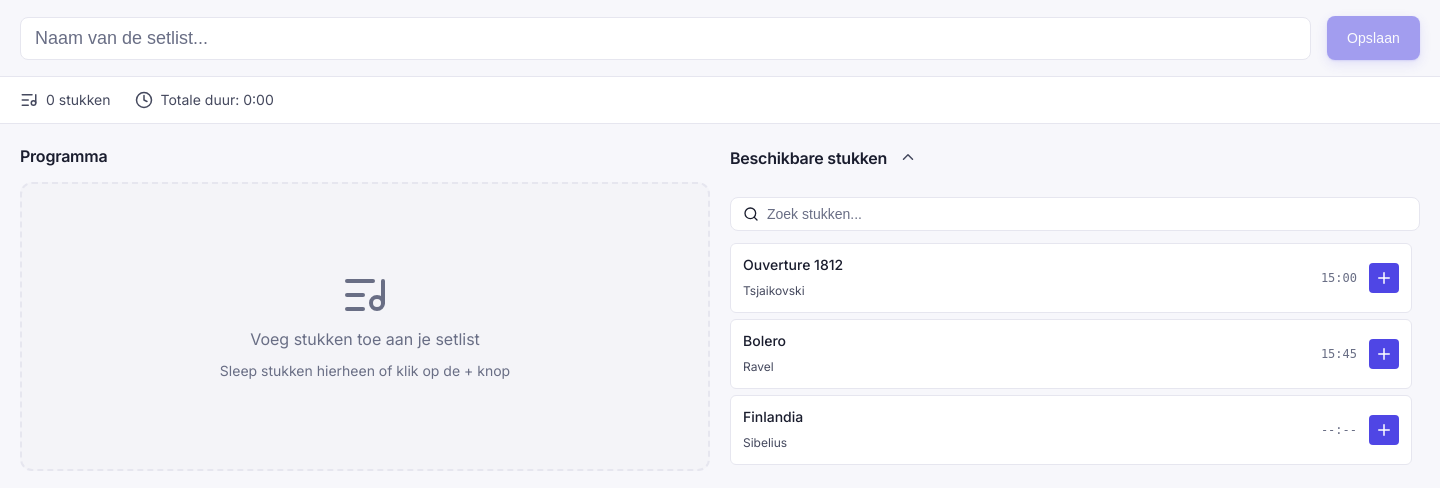
SetlistBuilder: stukken kiezen › haalt een stuk weer uit het programma en biedt het opnieuw aan
Click the button titled "Toevoegen aan setlist" next to "15:45": (1384,354) x1=1369 y1=339 x2=1399 y2=369
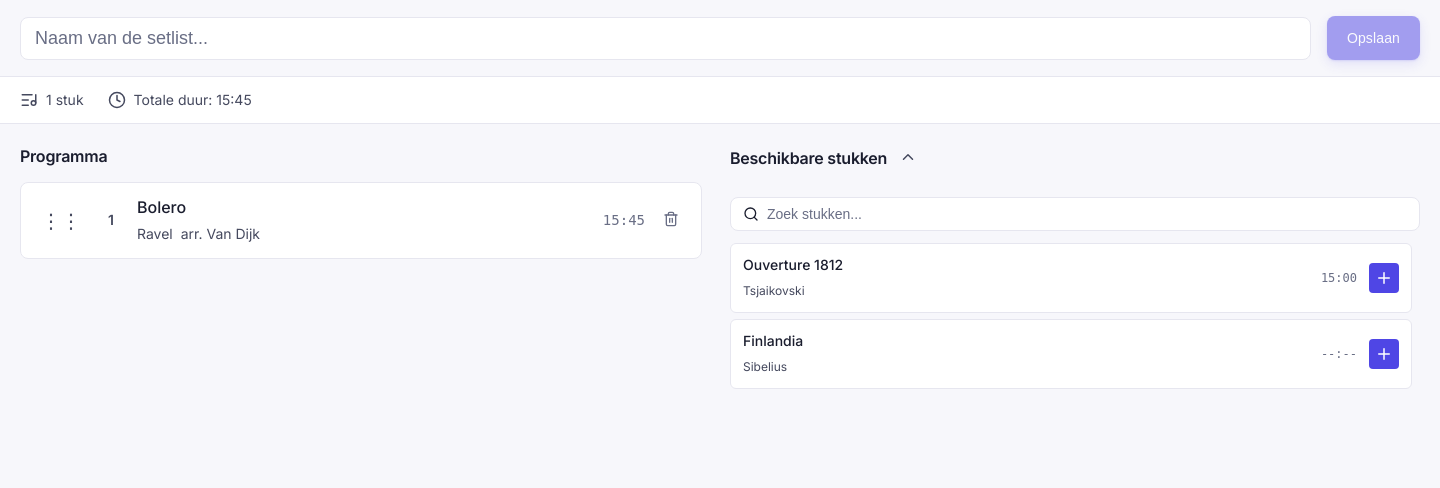
Click the button titled "Verwijderen uit setlist": (671,221) x1=657 y1=205 x2=685 y2=236
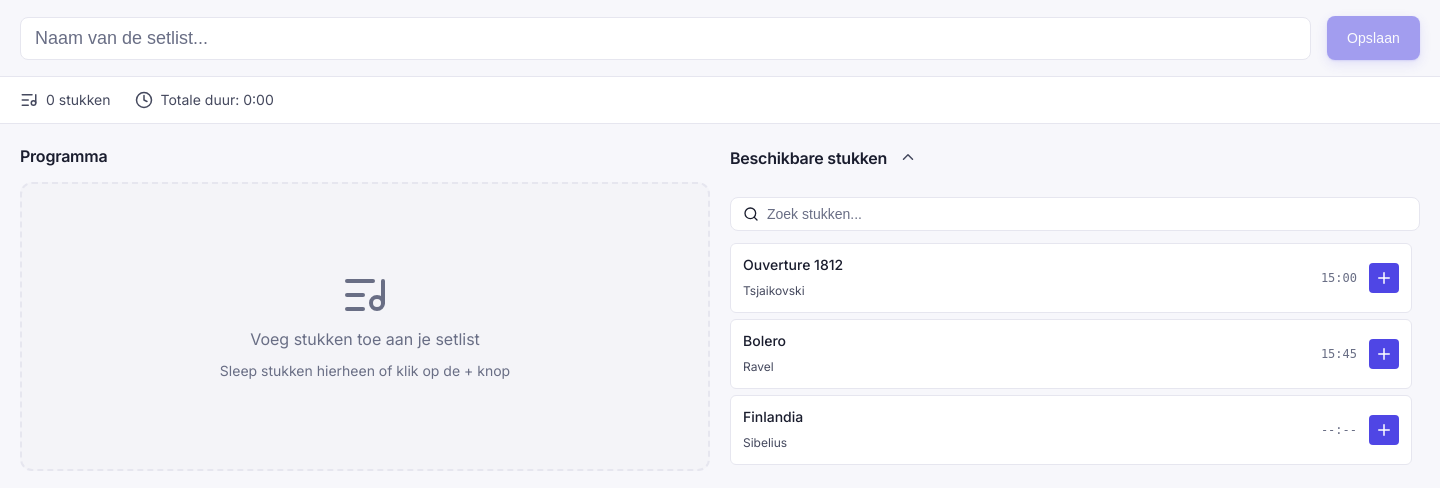
expect the text "Voeg stukken toe aan je setlist" is shown: met, box x1=250 y1=327 x2=480 y2=352
expect the text "0 stukken" is shown: met, box x1=46 y1=89 x2=110 y2=111
expect the number of buttons titled "Toevoegen aan setlist" is 3: met, box x1=1369 y1=263 x2=1399 y2=293; x1=1369 y1=339 x2=1399 y2=369; x1=1369 y1=415 x2=1399 y2=445
